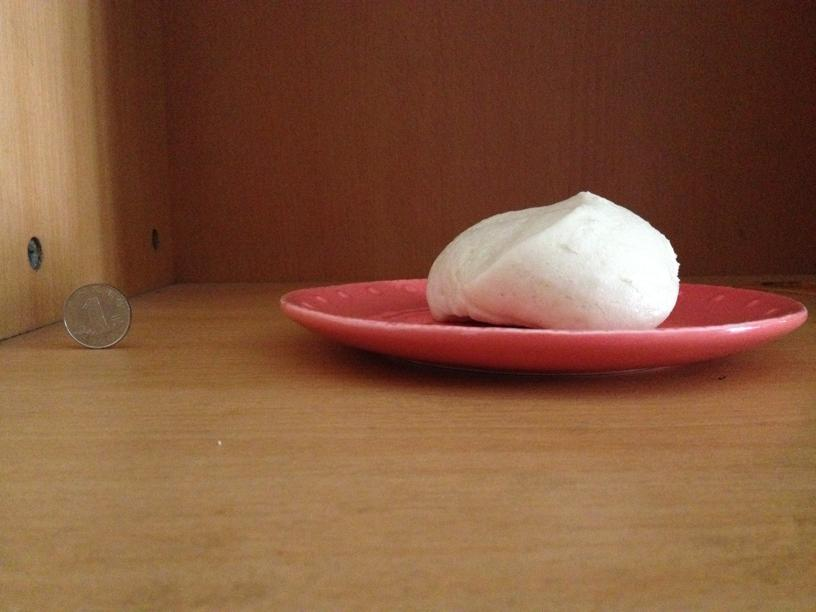bun: (420, 188, 683, 330)
coin: (60, 281, 131, 349)
